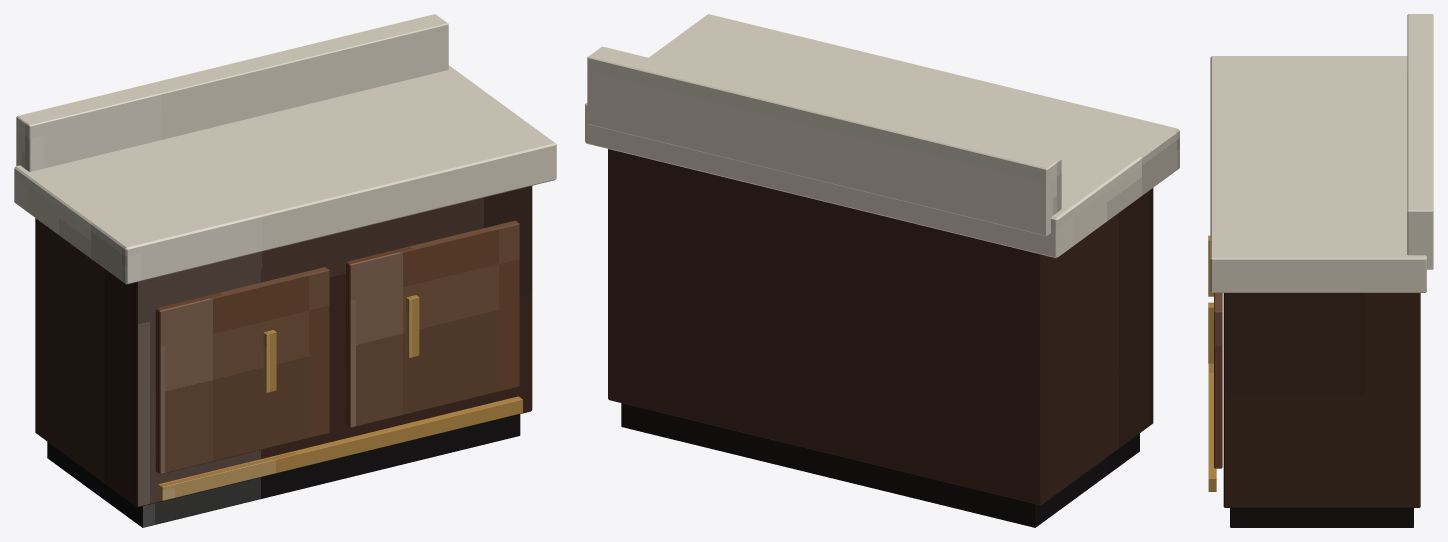
File: luxury_kitchen_counter.glb
3 views of the same model, side by side, from view 1: azimuth 30°, elevation 25°; view 2: azimuth 150°, elevation 25°; view 3: azimuth 270°, elevation 25° (orthographic). The views are drawn at different scales.
Visible parts, largest first — view 1: Worktop, CounterBody, CabinetDoor_1, CabinetDoor_2, TopBacksplash, CounterPlinth, GoldPlinthTrim, CabinetHandle_1, CabinetHandle_2; view 2: CounterBody, Worktop, TopBacksplash, CounterPlinth; view 3: Worktop, CounterBody, TopBacksplash, CounterPlinth, CabinetDoor_2, GoldPlinthTrim, CabinetHandle_2.
Part boxes in pixels (left/top/right/bottom): Worktop: left=14, top=65, right=556, bottom=284; CounterBody: left=35, top=186, right=532, bottom=507; CabinetDoor_1: left=155, top=267, right=329, bottom=474; CabinetDoor_2: left=346, top=220, right=519, bottom=427; TopBacksplash: left=16, top=14, right=448, bottom=171; CounterPlinth: left=47, top=414, right=520, bottom=527; GoldPlinthTrim: left=158, top=396, right=522, bottom=500; CabinetHandle_1: left=263, top=330, right=276, bottom=392; CabinetHandle_2: left=406, top=295, right=419, bottom=357; CounterBody: left=608, top=149, right=1153, bottom=505; Worktop: left=585, top=14, right=1179, bottom=258; TopBacksplash: left=587, top=46, right=1061, bottom=236; CounterPlinth: left=621, top=403, right=1139, bottom=527; Worktop: left=1210, top=56, right=1426, bottom=292; CounterBody: left=1223, top=293, right=1420, bottom=507; TopBacksplash: left=1407, top=14, right=1433, bottom=269; CounterPlinth: left=1230, top=508, right=1413, bottom=527; CabinetDoor_2: left=1214, top=293, right=1222, bottom=468; GoldPlinthTrim: left=1208, top=363, right=1216, bottom=491; CabinetHandle_2: left=1208, top=302, right=1213, bottom=363.
Size of the model in its own units: 1.46 by 1.1 by 0.6865.
1 material, 1 textured.
